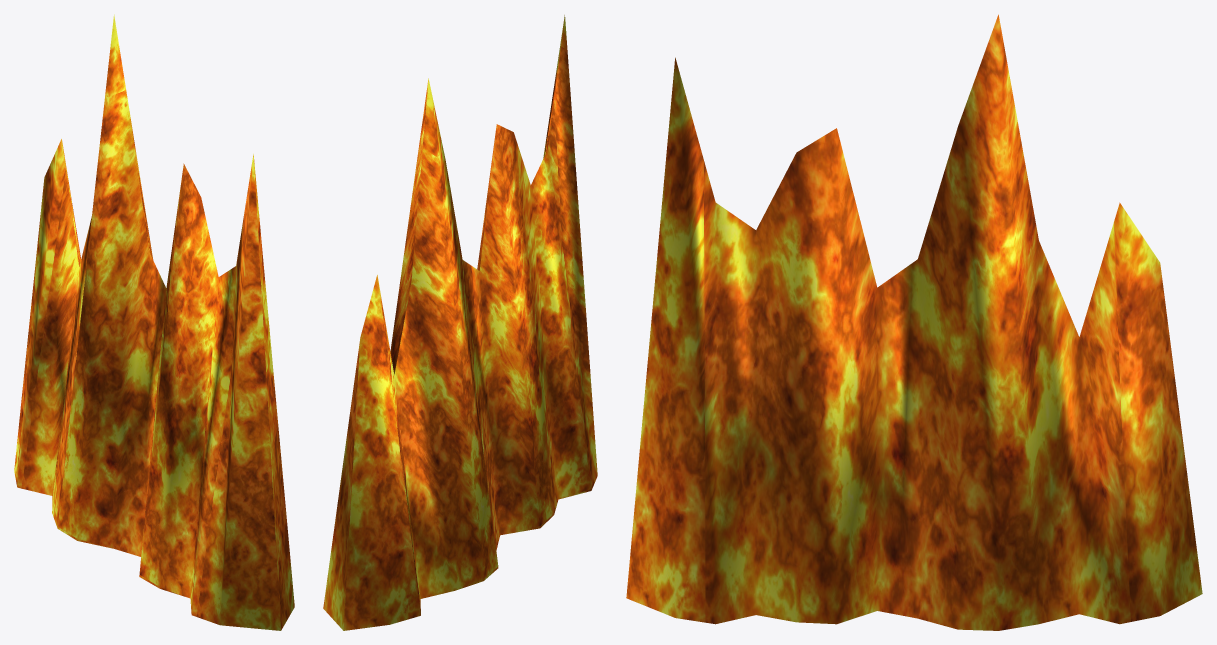
The model's file is Lava.glb.
3 views of the same model, side by side, from view 1: azimuth 30°, elevation 25°; view 2: azimuth 150°, elevation 25°; view 3: azimuth 270°, elevation 25° (orthographic). The views are drawn at different scales.
Visible parts, largest first — view 1: magma.jpg__; view 2: magma.jpg__; view 3: magma.jpg__.
Boxes of the visible parts, x1,y1,x2,y2 form: magma.jpg__: (14, 14, 294, 630); magma.jpg__: (323, 15, 597, 630); magma.jpg__: (626, 14, 1202, 630).
Size of the model in its own units: 0.9877 by 3.92 by 3.53.
1 material, 1 textured.
